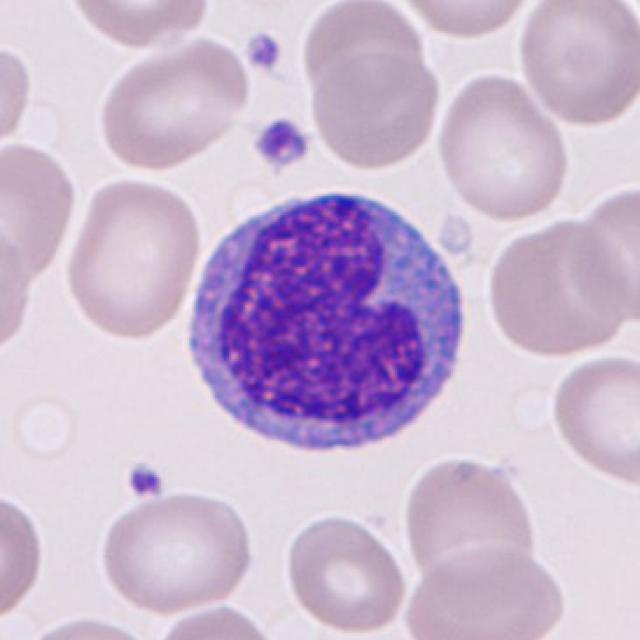Monocyte: (175, 178, 479, 464)
Platelets: (250, 114, 313, 170), (241, 30, 285, 74), (123, 460, 166, 501)
RBC: (61, 172, 205, 342), (92, 33, 254, 173), (483, 215, 633, 361), (432, 69, 573, 224), (94, 487, 257, 616), (399, 451, 540, 584), (308, 48, 444, 172), (399, 543, 570, 640), (281, 510, 411, 636), (514, 0, 638, 128), (297, 0, 430, 106), (548, 349, 638, 489), (0, 135, 80, 286), (561, 180, 640, 326), (63, 0, 215, 50), (0, 487, 49, 626), (392, 0, 546, 42), (6, 391, 83, 465), (150, 600, 280, 640), (0, 217, 35, 361), (16, 612, 162, 640), (0, 37, 35, 149)
